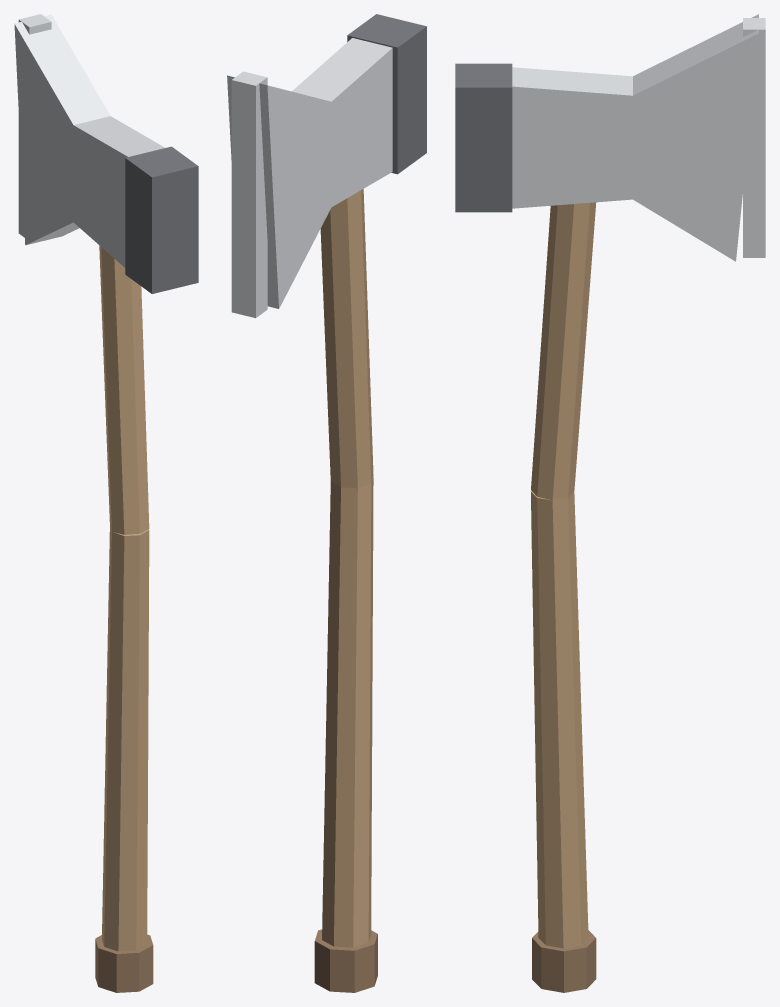
Rendered from Axe_1.fbx.
3 views of the same model, side by side, from view 1: azimuth 30°, elevation 25°; view 2: azimuth 150°, elevation 25°; view 3: azimuth 270°, elevation 25° (orthographic). The views are drawn at different scales.
Visible parts, largest first — view 1: Axe_1_Mesh; view 2: Axe_1_Mesh; view 3: Axe_1_Mesh.
Part boxes in pixels (x1=…): Axe_1_Mesh: x1=14, y1=14, x2=198, y2=992; Axe_1_Mesh: x1=227, y1=14, x2=426, y2=992; Axe_1_Mesh: x1=455, y1=14, x2=765, y2=992.
Bounding box in the file's own units: 0.056 × 0.92 × 0.271.
